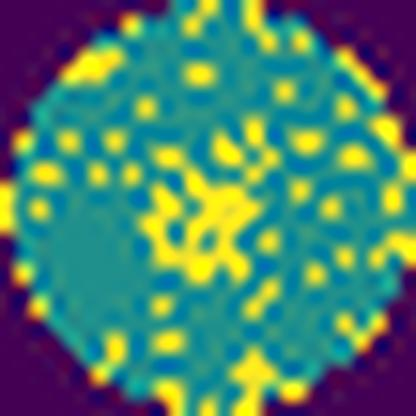Center: (134, 145, 266, 289)
